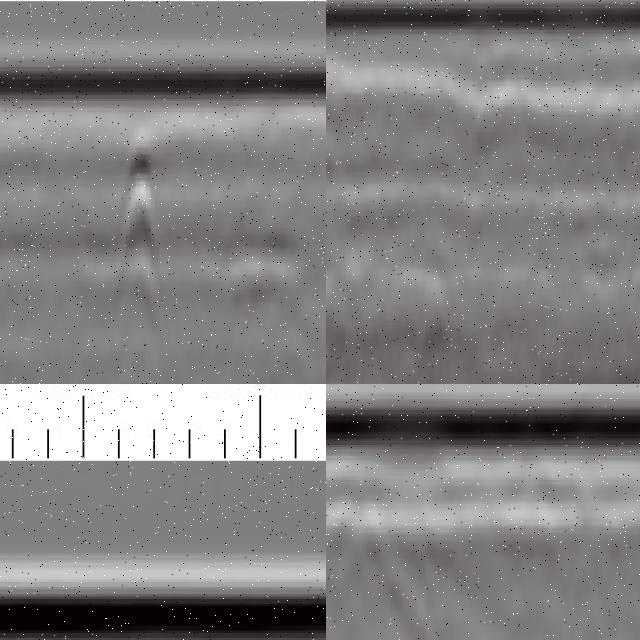crack: (120, 119, 154, 320)
